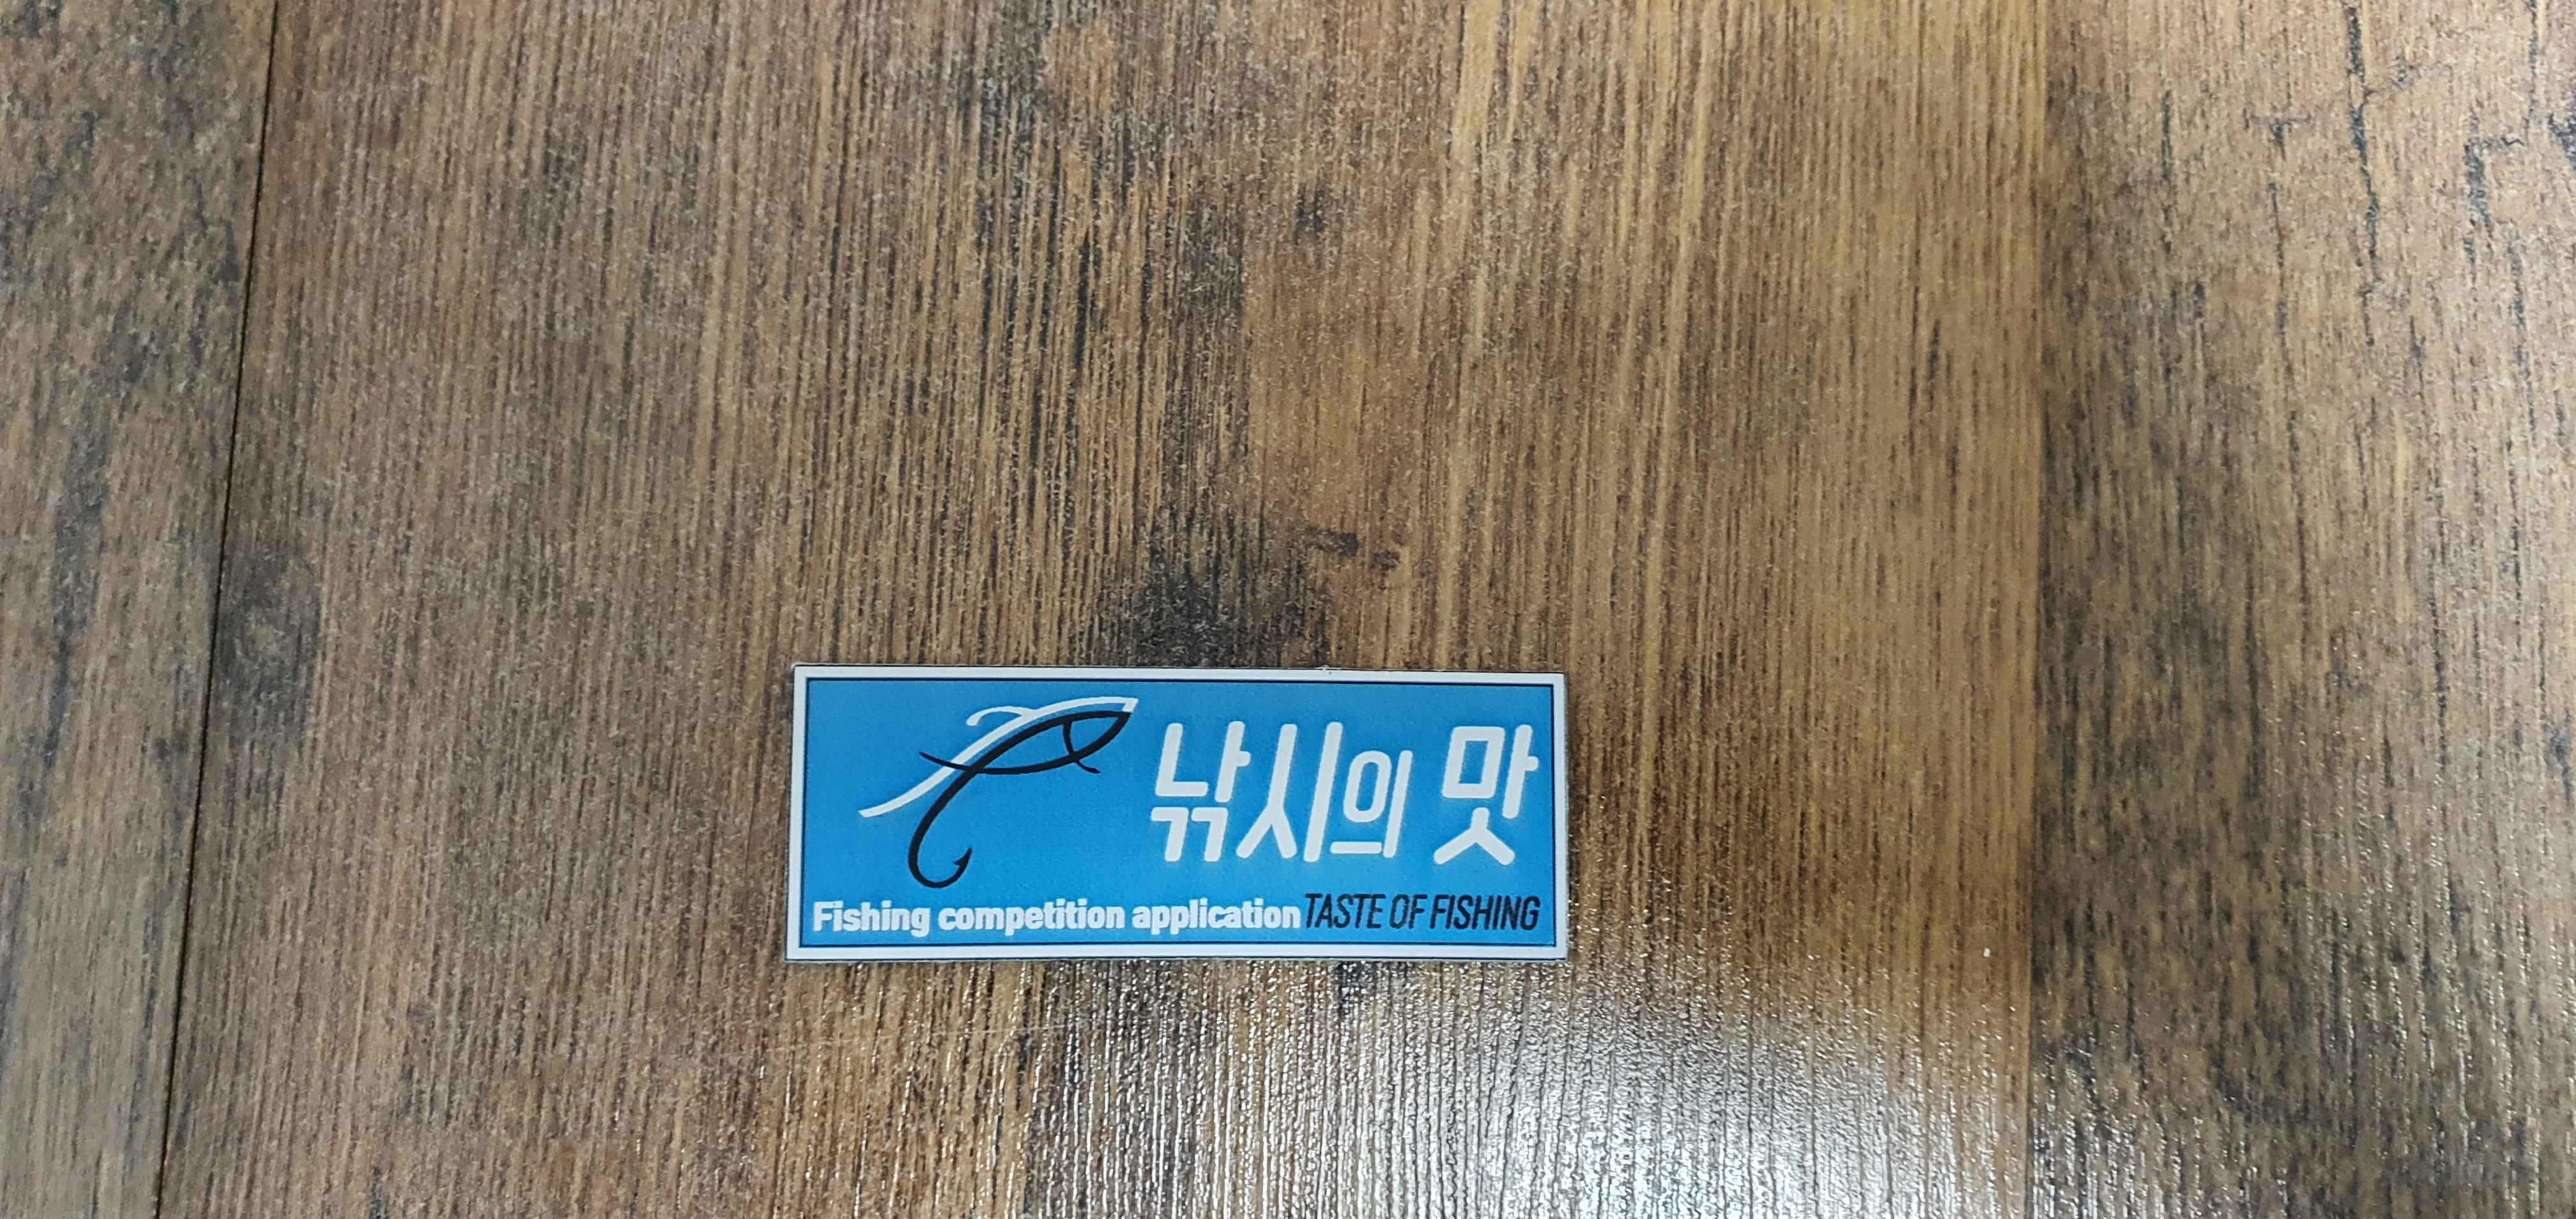tag: (789, 660, 1567, 964)
